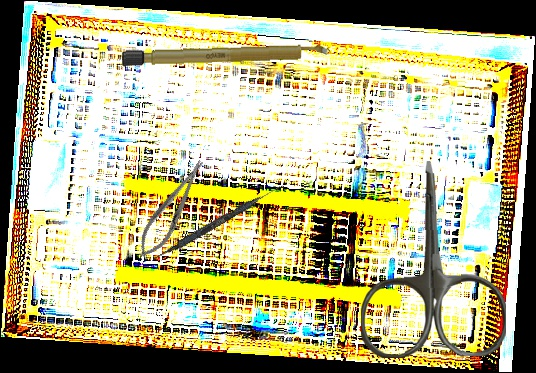Iris Scissors: (358, 159, 507, 359)
Needle Holder: (130, 154, 214, 264)
Scalpel Handle: (120, 43, 333, 67)
Spatula Surgical: (151, 180, 285, 265)
